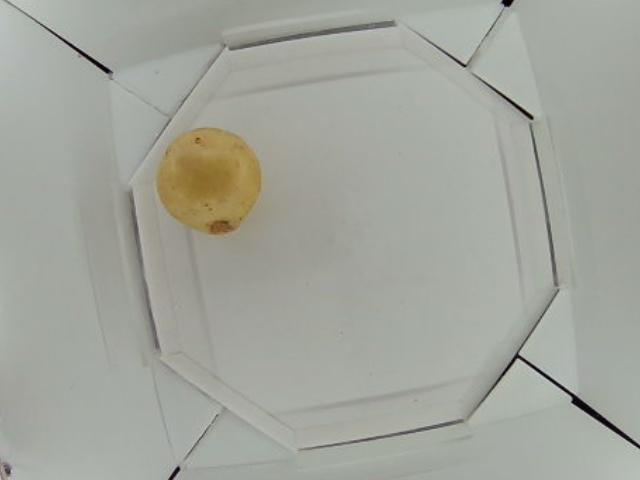Potato: (160, 131, 259, 237)
